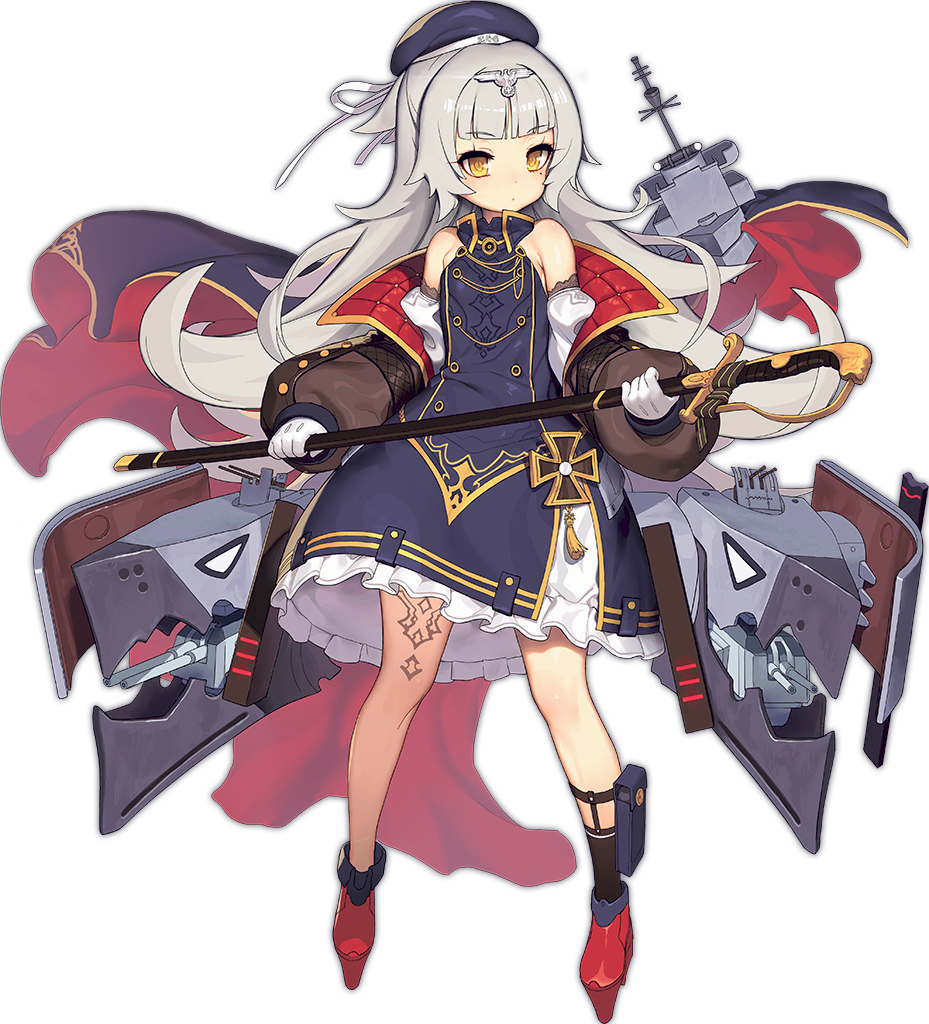person: (141, 1, 805, 923)
